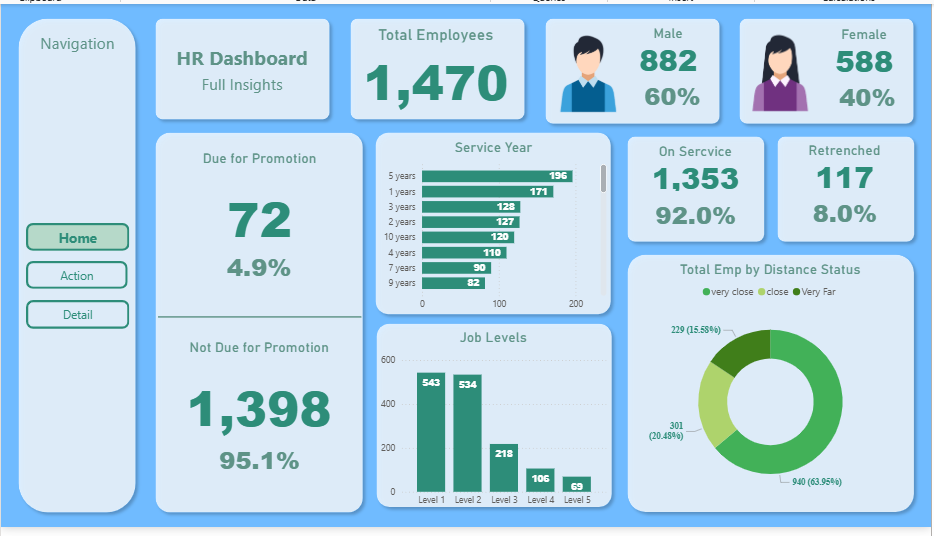

This screenshot's page, from the dashboard's own definition file:
{"tool":"powerbi","page":{"name":"Home","canvas":[1280,720],"ordinal":0},"visuals":[{"type":"shape","box":[15.2,10.5,179.1,697.8],"z":0},{"type":"shape","box":[203.7,10.5,257.6,156.9],"z":1000},{"type":"shape","box":[471.8,10.5,257.6,156.9],"z":2000},{"type":"shape","box":[741.1,10.5,257.6,162.7],"z":3000},{"type":"shape","box":[1008,10.5,257.6,162.7],"z":4000},{"type":"shape","box":[203.7,167.4,303.2,540.9],"z":5000},{"type":"shape","box":[506.9,167.4,341.9,268.1],"z":6000},{"type":"shape","box":[507.4,430.4,341.9,270.4],"z":7000},{"type":"shape","box":[853.5,173.3,206,162.7],"z":8000},{"type":"shape","box":[853.5,336,412.1,372.3],"z":9000},{"type":"shape","box":[1059.5,173.3,206,162.7],"z":10000},{"type":"textbox","box":[215.4,49.2,231.8,51.5],"z":11000},{"type":"textbox","box":[215.4,91.3,231.8,44.5],"z":12000},{"type":"card","title":"Total Employees","fields":{"Values":["All Measures.Total Emp"]},"box":[484.7,29.3,228.3,124.1],"z":13000},{"type":"card","title":"Male","fields":{"Values":["All Measures.Male"]},"box":[853.5,29.3,130,71.4],"z":14000},{"type":"card","title":"Male","fields":{"Values":["All Measures.% male"]},"box":[869.9,100.7,108.9,52.7],"z":15000},{"type":"card","title":"Female","fields":{"Values":["All Measures.Female"]},"box":[1122.9,30.8,130,71.4],"z":16000},{"type":"card","title":"Male","fields":{"Values":["All Measures.% female"]},"box":[1136.8,100.7,111.2,53.9],"z":17000},{"type":"image","box":[749.3,34,120.6,120.6],"z":18000},{"type":"image","box":[1019.7,34,103,119.4],"z":19000},{"type":"card","title":"Due for Promotion","fields":{"Values":["All Measures.Due for promotions"]},"box":[215.4,201.4,279.8,158],"z":20000},{"type":"card","title":"Male","fields":{"Values":["All Measures.% Due for promotion"]},"box":[216.6,320.8,278.6,80.8],"z":21000},{"type":"card","title":"Not Due for Promotion","fields":{"Values":["All Measures.Not due"]},"box":[216.6,461.3,278.6,158],"z":22000},{"type":"card","title":"Male","fields":{"Values":["All Measures.% Not due"]},"box":[215.4,601.8,279.8,52.7],"z":23000},{"type":"shape","box":[215.4,414.4,279.8,32.8],"z":24000},{"type":"barChart","title":"Service Year","fields":{"Category":["HR Analytics Data.Service year"],"Y":["All Measures.Total Emp"]},"box":[517.5,186.1,320.8,244.7],"z":25000},{"type":"columnChart","title":"Job Levels","fields":{"Y":["All Measures.Total Emp"],"Category":["HR Analytics Data.Job Levels"]},"box":[517.5,447.2,320.8,254],"z":26000},{"type":"card","title":"On Sercvice","fields":{"Values":["All Measures.On Service"]},"box":[865.2,192,180.3,71.4],"z":27000},{"type":"card","title":"Male","fields":{"Values":["All Measures.% On service"]},"box":[865.2,262.2,181.5,53.9],"z":28000},{"type":"card","title":"Retrenched","fields":{"Values":["All Measures.Will be Retrenched"]},"box":[1070.9,189.8,180.3,71.4],"z":29000},{"type":"card","title":"Male","fields":{"Values":["All Measures.% Will be Retrenched"]},"box":[1070.9,260.1,181.5,53.9],"z":30000},{"type":"donutChart","fields":{"Category":["HR Analytics Data.Distance Status"],"Y":["All Measures.Total Emp"]},"box":[869.9,353.6,378.1,337.2],"z":31000},{"type":"textbox","box":[34,34,141.7,41],"z":32000},{"type":"actionButton","box":[34.7,302.1,142.4,38.4],"z":33000},{"type":"actionButton","box":[34.7,354,139.9,38.4],"z":34000},{"type":"actionButton","box":[34.7,407.3,142.4,39.6],"z":35000}]}

Visuals, with their boxes in screenshot pixels (x1, y1, x2, y2), scaled from the page's 1280x720 canvas onto the 934x536 screenshot:
shape: detection(11, 8, 142, 527)
shape: detection(149, 8, 337, 125)
shape: detection(344, 8, 532, 125)
shape: detection(541, 8, 729, 129)
shape: detection(736, 8, 923, 129)
shape: detection(149, 125, 370, 527)
shape: detection(370, 125, 619, 324)
shape: detection(370, 320, 620, 522)
shape: detection(623, 129, 773, 250)
shape: detection(623, 250, 923, 527)
shape: detection(773, 129, 923, 250)
textbox: detection(157, 37, 326, 75)
textbox: detection(157, 68, 326, 101)
"Total Employees" card: detection(354, 22, 520, 114)
"Male" card: detection(623, 22, 718, 75)
"Male" card: detection(635, 75, 714, 114)
"Female" card: detection(819, 23, 914, 76)
"Male" card: detection(830, 75, 911, 115)
image: detection(547, 25, 635, 115)
image: detection(744, 25, 819, 114)
"Due for Promotion" card: detection(157, 150, 361, 268)
"Male" card: detection(158, 239, 361, 299)
"Not Due for Promotion" card: detection(158, 343, 361, 461)
"Male" card: detection(157, 448, 361, 487)
shape: detection(157, 308, 361, 333)
"Service Year" barChart: detection(378, 139, 612, 321)
"Job Levels" columnChart: detection(378, 333, 612, 522)
"On Sercvice" card: detection(631, 143, 763, 196)
"Male" card: detection(631, 195, 764, 235)
"Retrenched" card: detection(781, 141, 913, 194)
"Male" card: detection(781, 194, 914, 234)
donutChart - HR Analytics Data.Distance Status x All Measures.Total Emp: detection(635, 263, 911, 514)
textbox: detection(25, 25, 128, 56)
actionButton: detection(25, 225, 129, 253)
actionButton: detection(25, 264, 127, 292)
actionButton: detection(25, 303, 129, 333)
